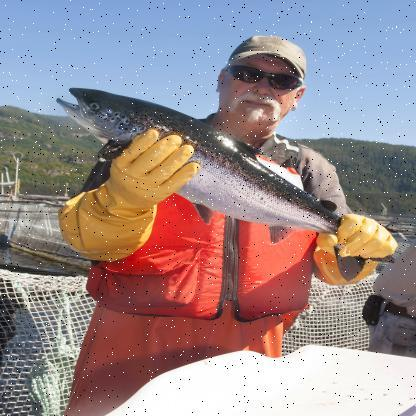fish: (54, 86, 396, 262)
